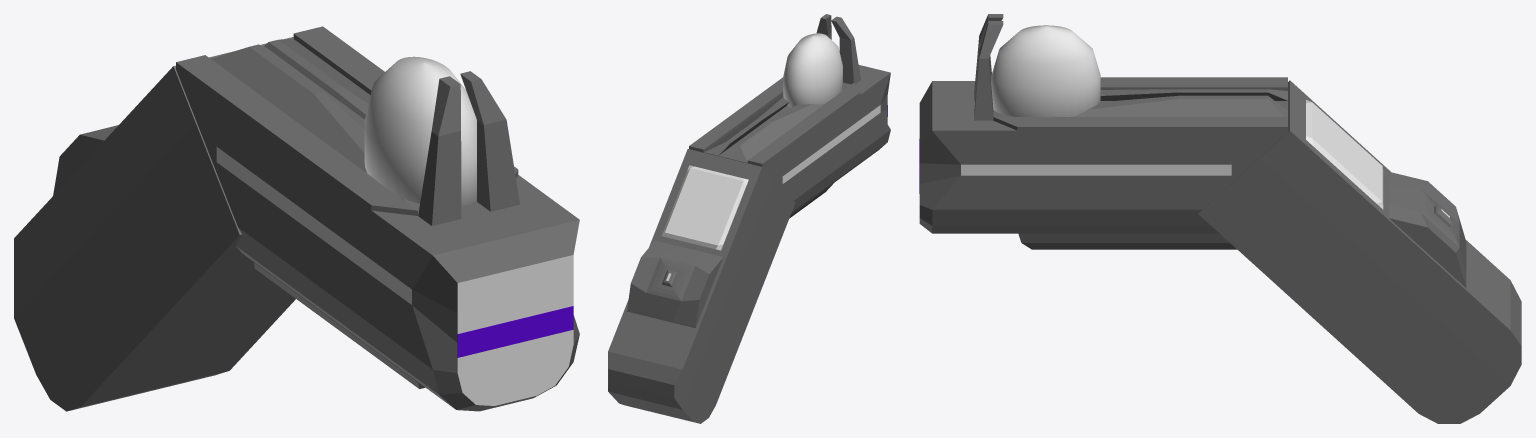
The model's file is PORTAL GUN.fbx.
3 views of the same model, side by side, from view 1: azimuth 30°, elevation 25°; view 2: azimuth 150°, elevation 25°; view 3: azimuth 270°, elevation 25° (orthographic). The views are drawn at different scales.
Parts seen in each view (by area): view 1: gun; view 2: gun; view 3: gun.
Part boxes in pixels (x1=…): gun: x1=14, y1=26, x2=579, y2=411; gun: x1=608, y1=14, x2=890, y2=423; gun: x1=919, y1=14, x2=1521, y2=423.
Size of the model in its own units: 78.36 by 275 by 396.
